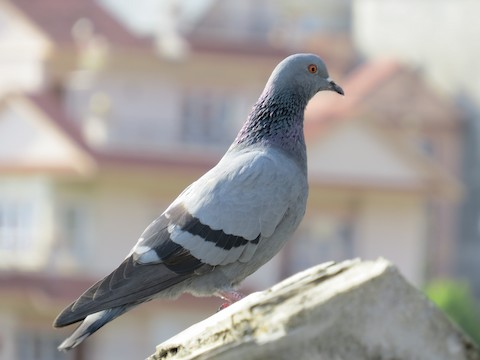pigeon: (54, 49, 350, 355)
